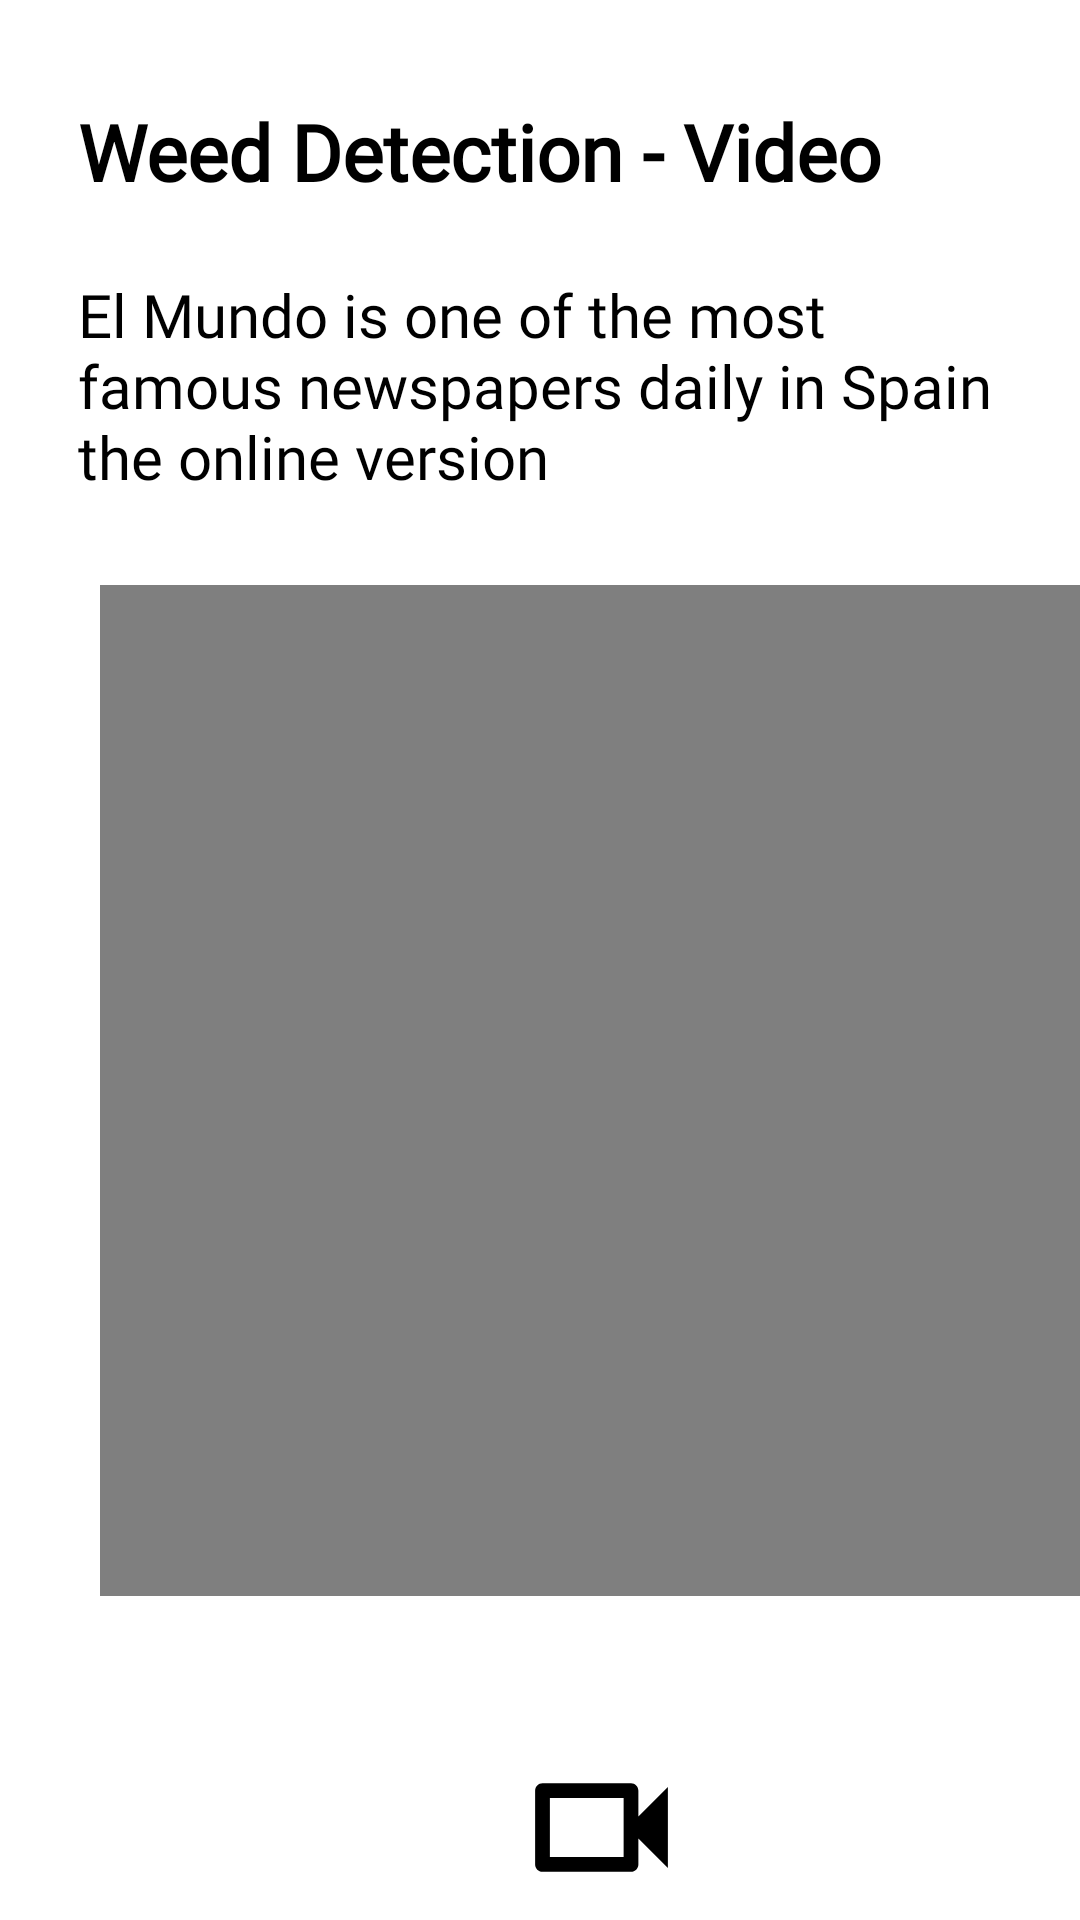

Point at icon controls on the screen. Image size 1080px x 1920px, points as (x=x, y=y).
videocam: (x=601, y=1827)
